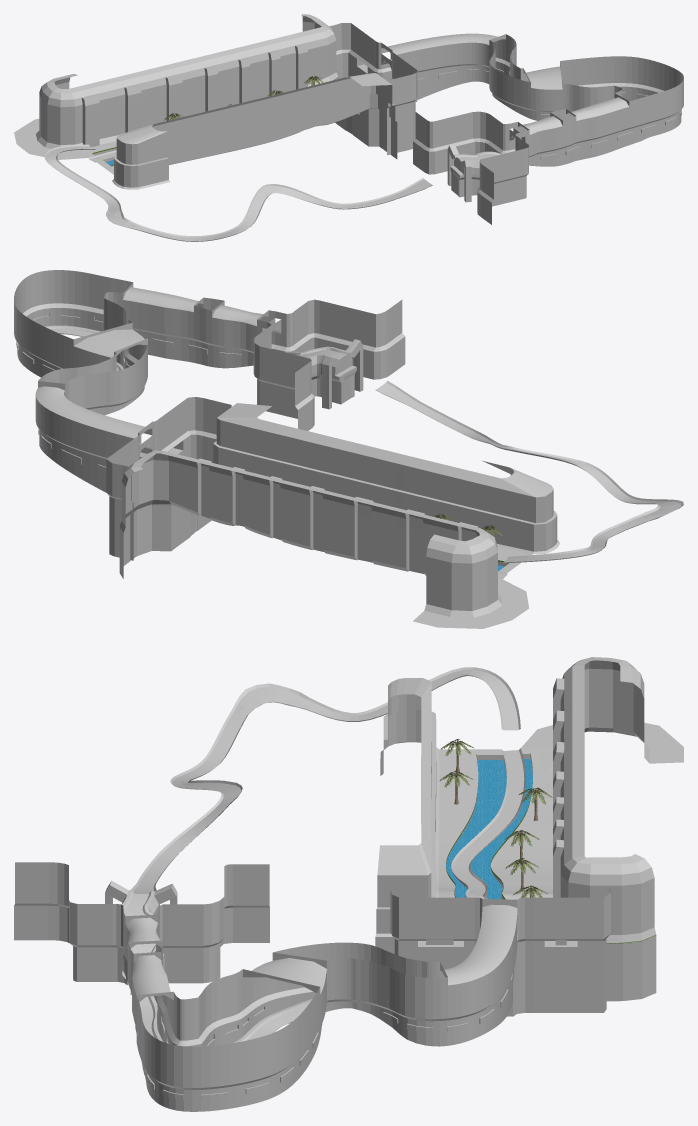
The model's file is KBay.FBX.
The picture shows the model from 3 angles, top to bottom: view 1: azimuth 30°, elevation 25°; view 2: azimuth 150°, elevation 25°; view 3: azimuth 270°, elevation 25°; orthographic projection. The views are drawn at different scales.
Parts seen in each view (by area): view 1: Object002, Object001, TRACK_FLOOR, TRACK_WALLS; view 2: Object001, Object002, TRACK_FLOOR, TRACK_WALLS; view 3: Object002, Object001, TRACK_FLOOR, Object003, TRACK_WALLS.
Part boxes in pixels (x1,y1,x2,y2): Object002: (329,23,683,224); Object001: (14,14,397,189); TRACK_FLOOR: (46,146,497,241); TRACK_WALLS: (44,144,536,241); Object001: (119,403,559,628); Object002: (14,270,405,560); TRACK_FLOOR: (50,328,680,579); TRACK_WALLS: (47,326,683,574); Object002: (14,862,610,1111); Object001: (375,657,683,1001); TRACK_FLOOR: (125,669,524,1040); Object003: (446,759,532,899); TRACK_WALLS: (123,667,525,1041).
Size of the model in its own units: 254 by 37.94 by 174.
